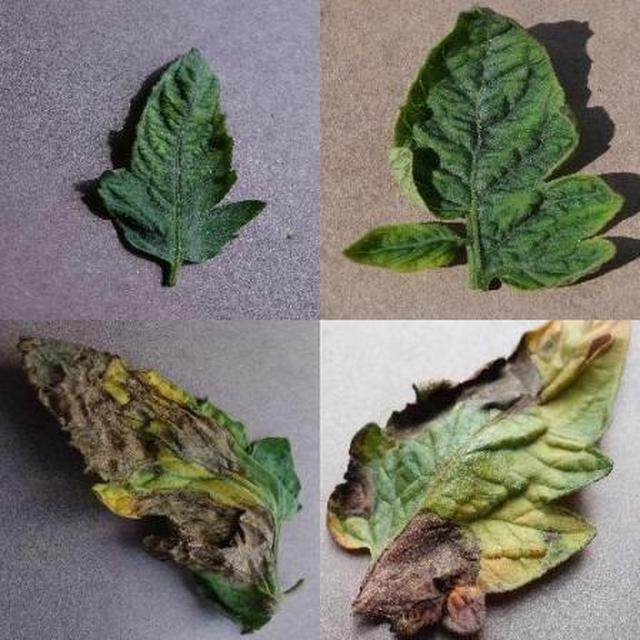Mosaic Virus Leaf: (167, 71, 640, 640)
